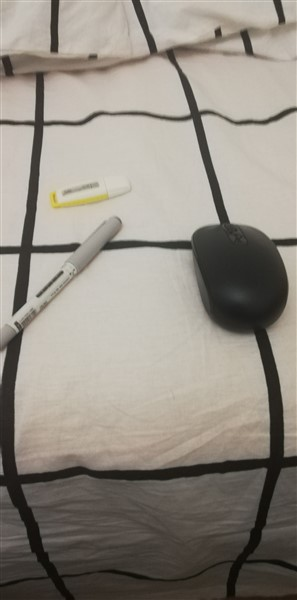flash disk: (43, 162, 140, 214)
mouse: (187, 217, 296, 337)
pilot kalem: (1, 215, 128, 352)
